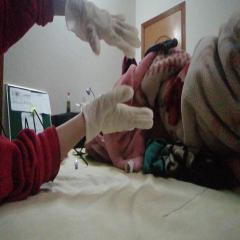gloved: (66, 0, 142, 55), (84, 85, 154, 140)
